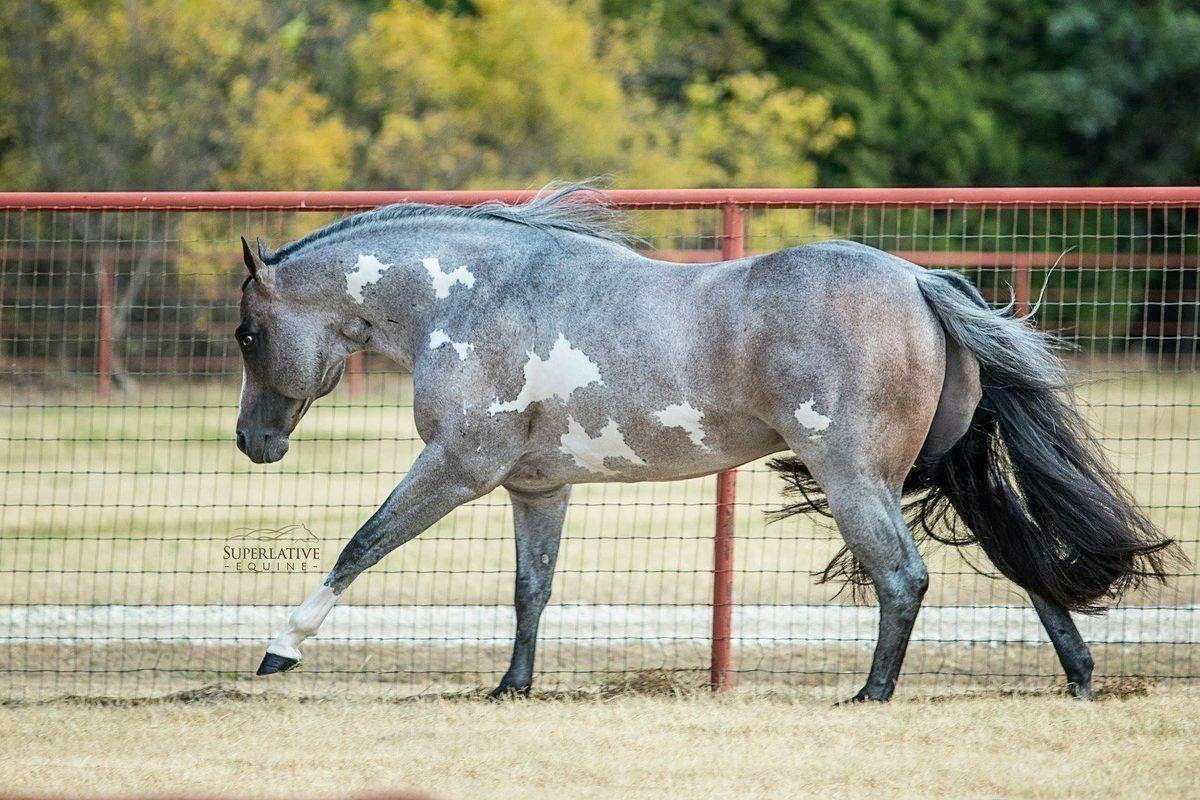horse: (232, 171, 1193, 707)
